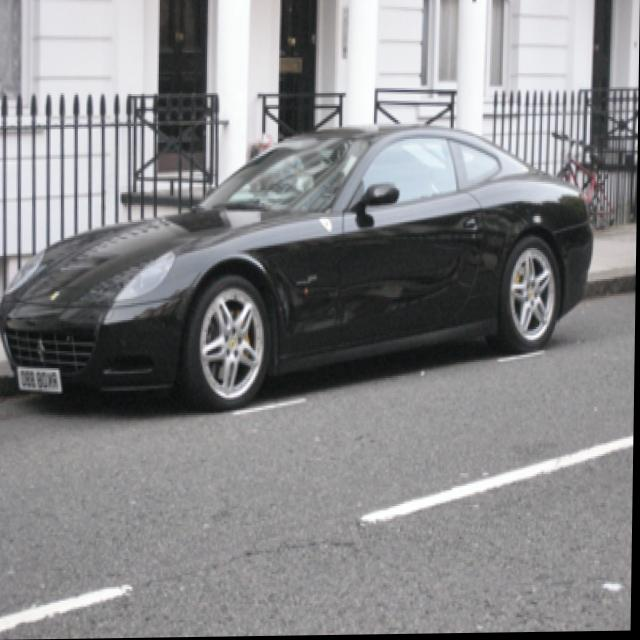licence: (18, 364, 63, 394)
